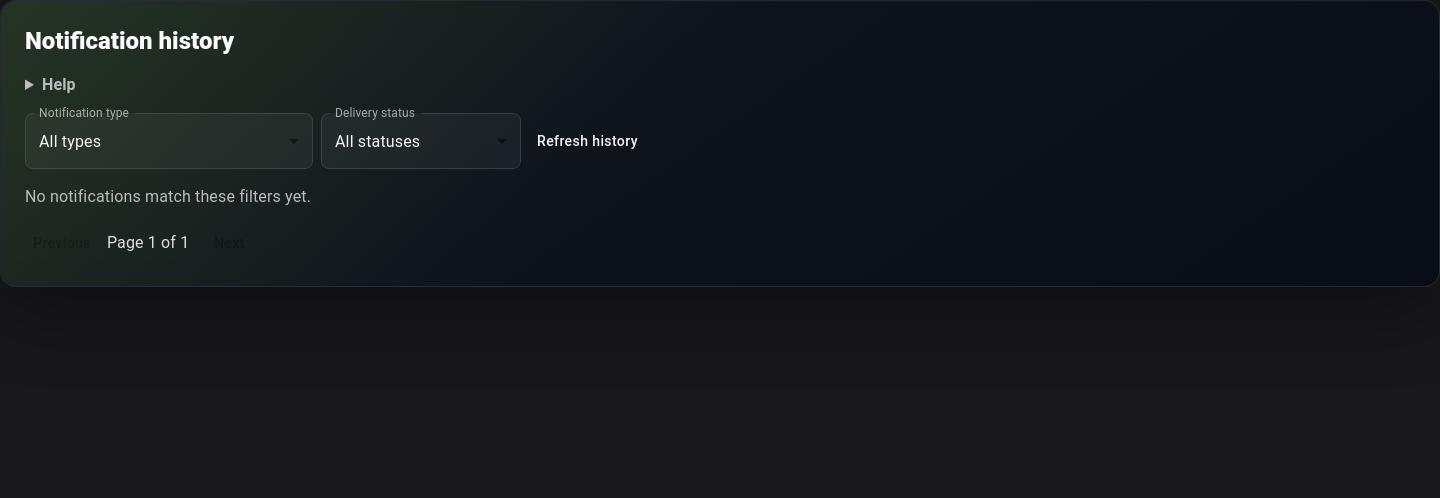
Test: personal notification history panel › shows truthful empty and uncertain outcomes without a confirmed-send link
What coordinates should you click on to do the following:
click the button "Refresh history"
I would click on:
 (587, 141)
Its box is [529, 113, 646, 169].
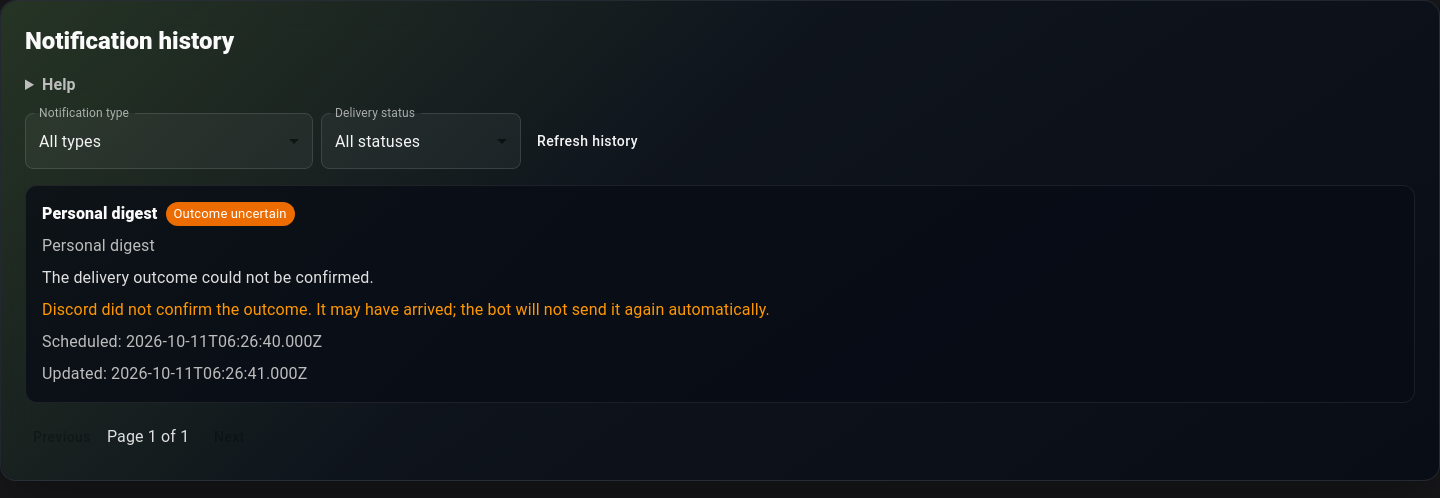
Result: the text "Discord did not confirm the outcome. It may have arrived; the bot will not send it again automatically." is shown at [42, 300, 770, 319]
Result: the text "Personal digest" is shown at [42, 202, 158, 226]
